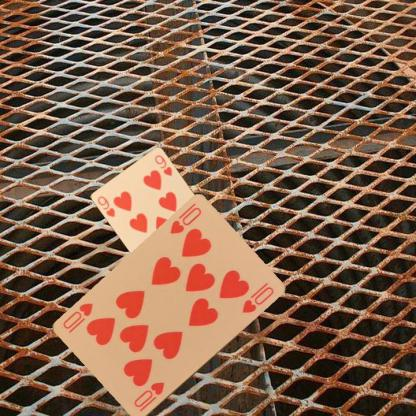10h: (131, 380, 166, 414), (167, 204, 203, 236)
9h: (95, 194, 116, 218)
